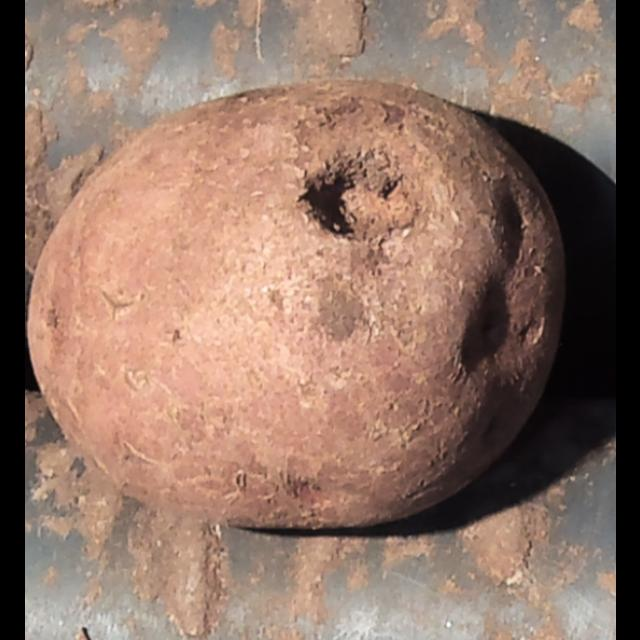Diseased-fungal potato: (24, 61, 584, 542)
